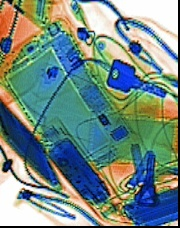powerbank: (117, 176, 177, 225)
